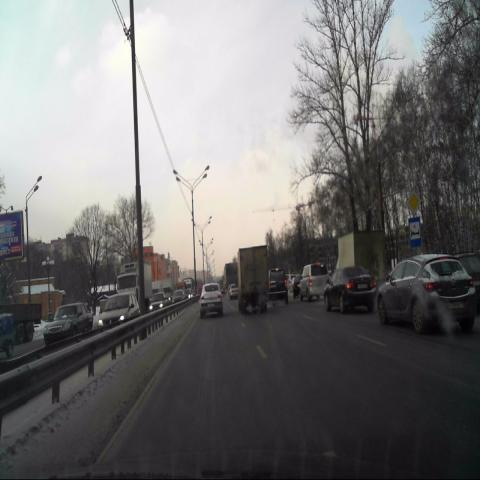7_2: (408, 217, 422, 248)
